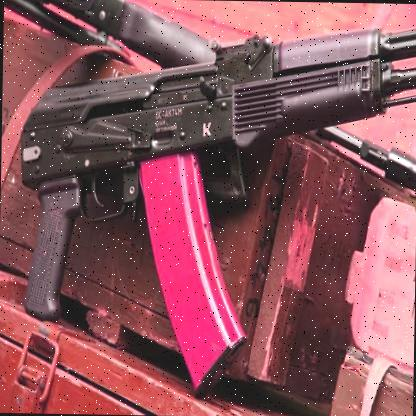rifle: (12, 14, 416, 342)
